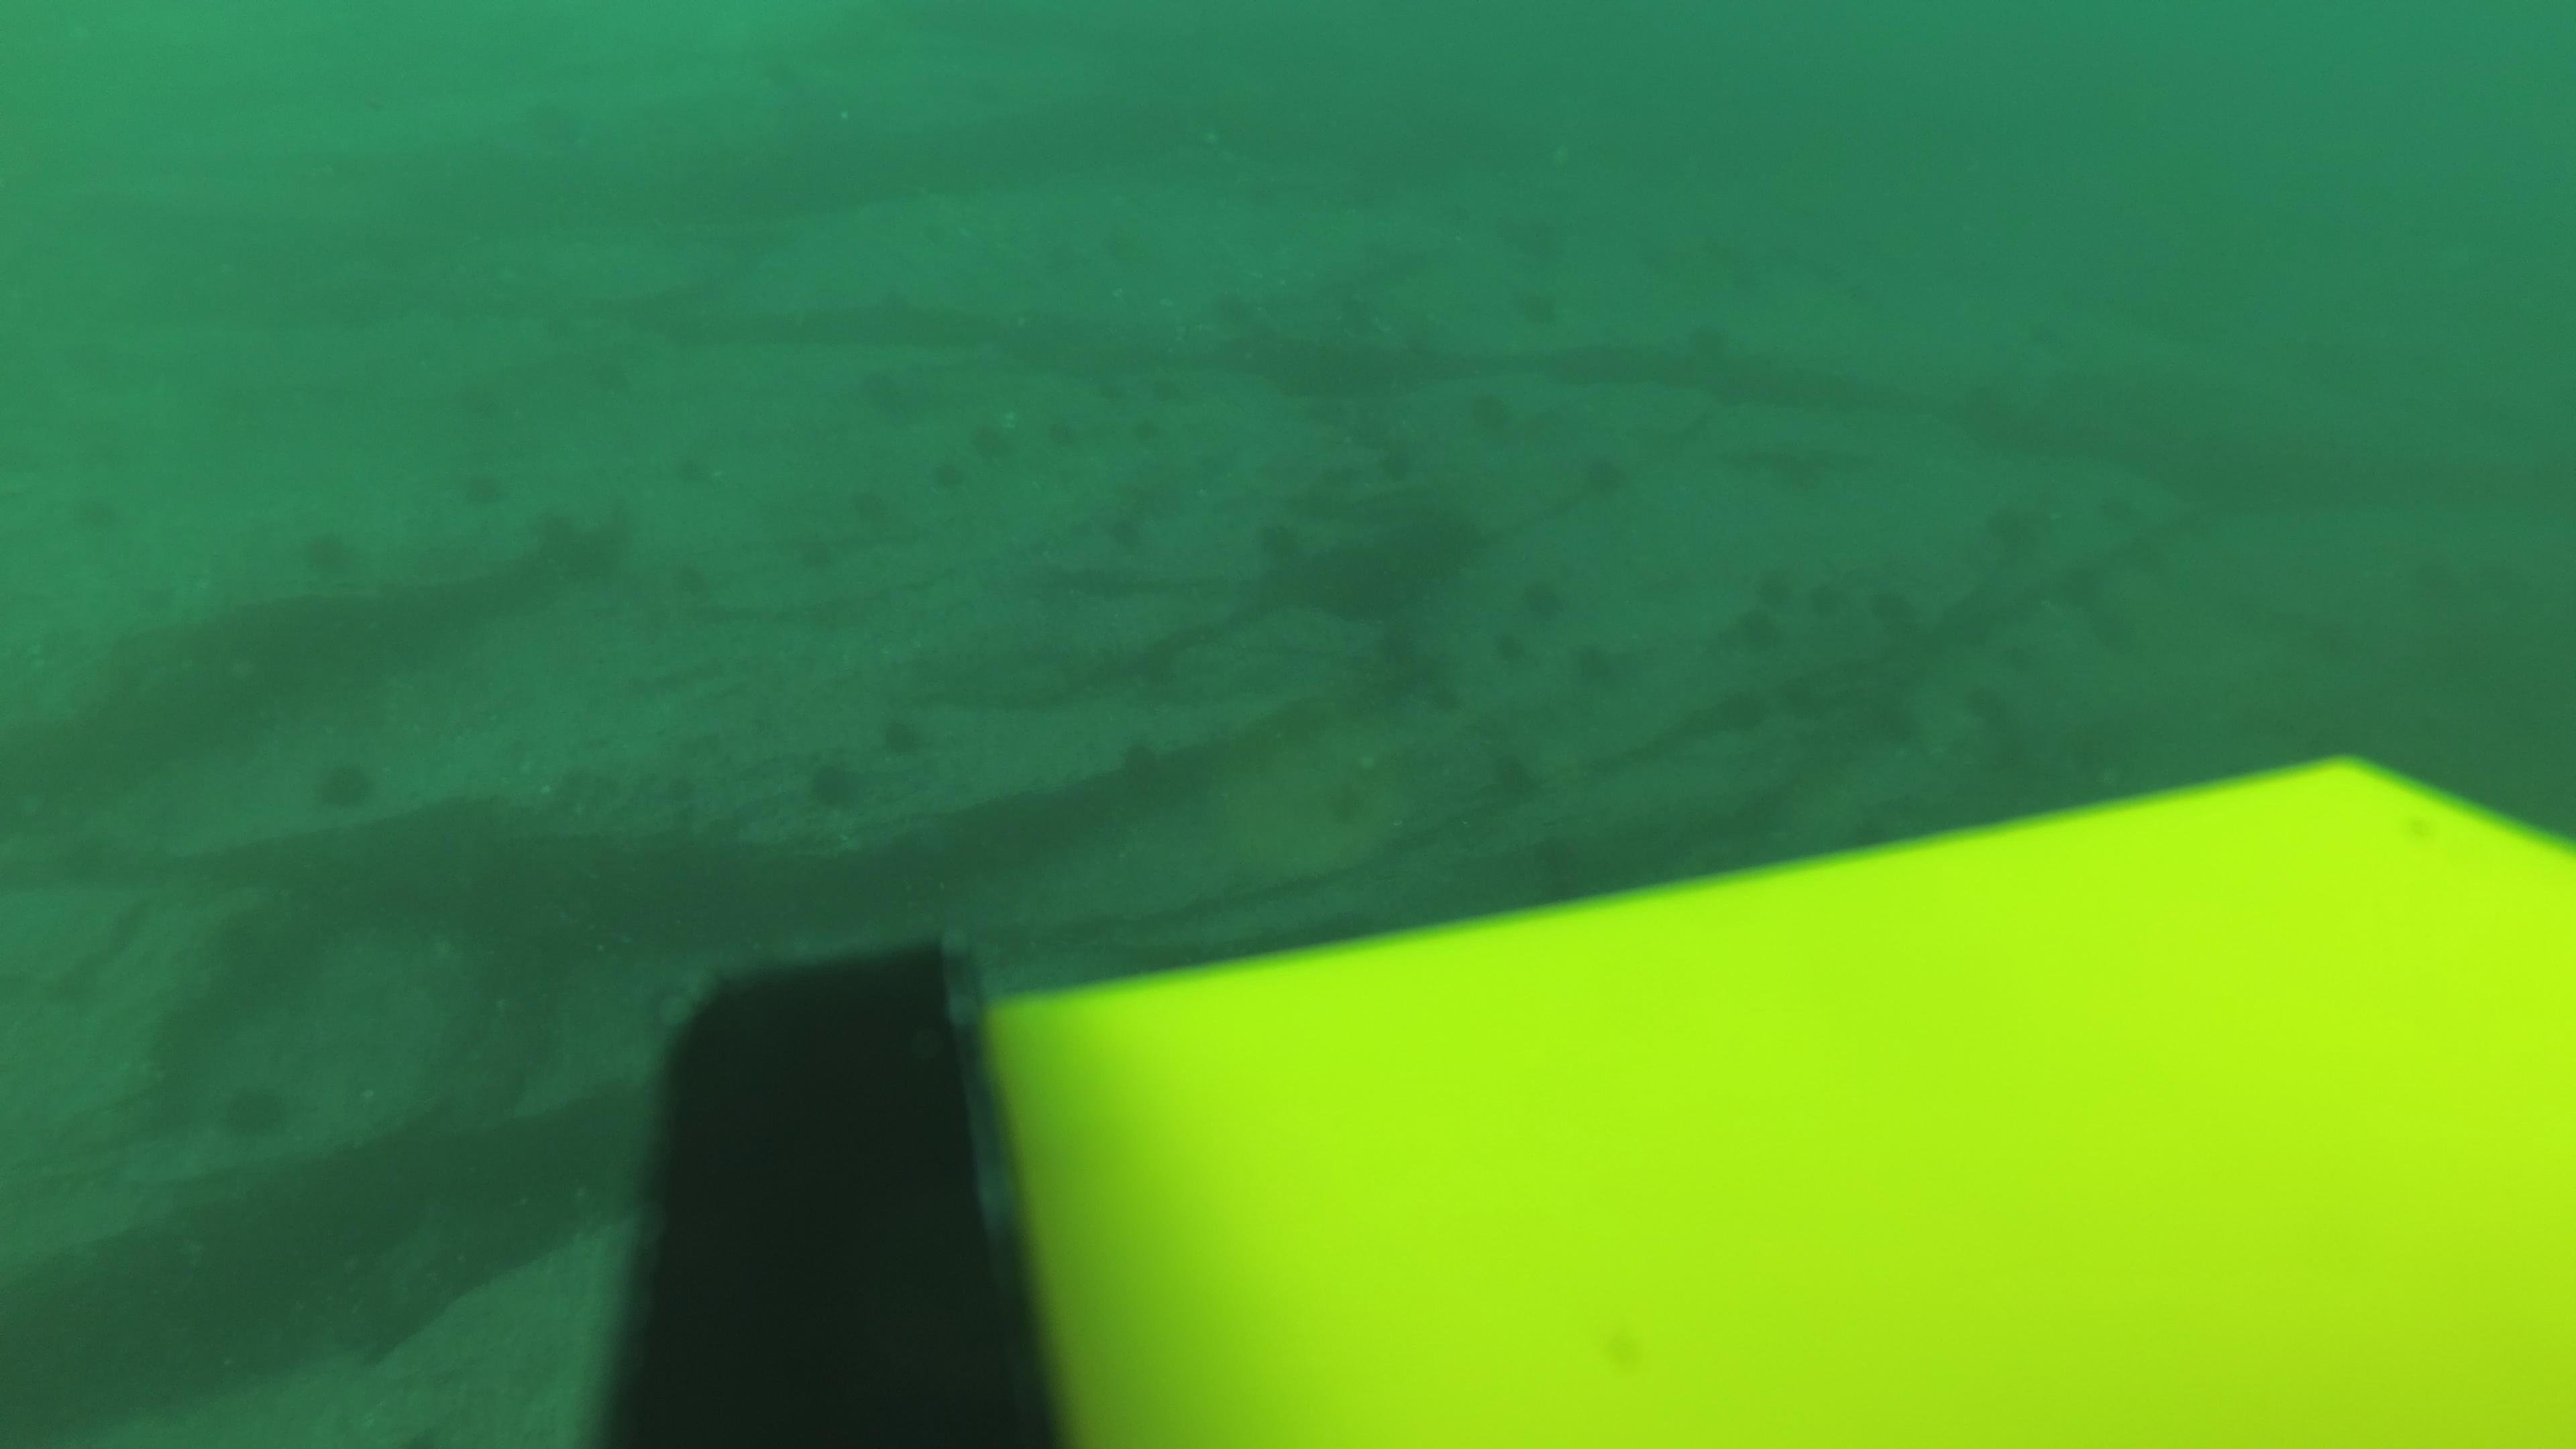echinus: (212, 1074, 301, 1146), (306, 750, 386, 819), (292, 522, 363, 586), (1490, 750, 1545, 805), (1514, 571, 1569, 626), (812, 755, 860, 800), (453, 467, 504, 504), (885, 711, 924, 754), (676, 449, 713, 485), (932, 458, 970, 494), (973, 421, 1010, 456), (1049, 412, 1086, 448), (1132, 416, 1169, 451), (74, 488, 111, 524), (1102, 510, 1139, 545), (1254, 518, 1292, 554), (1587, 456, 1624, 492), (1568, 639, 1605, 674), (1419, 679, 1456, 715), (1753, 570, 1790, 605), (1476, 389, 1513, 425), (1338, 295, 1375, 331), (1523, 290, 1560, 326), (1683, 317, 1720, 352), (1102, 228, 1139, 264), (674, 559, 709, 594), (1116, 738, 1152, 773), (541, 313, 577, 349), (586, 356, 621, 391), (1732, 612, 1767, 648), (1725, 686, 1760, 722), (1806, 582, 1842, 617), (1877, 593, 1913, 628), (1989, 504, 2024, 540), (1219, 292, 1254, 327), (1723, 257, 1759, 292), (1633, 239, 1668, 274), (1240, 177, 1276, 212), (796, 536, 833, 570), (855, 478, 892, 511), (1373, 449, 1410, 483), (1976, 686, 2013, 720), (1040, 246, 1077, 280), (1097, 375, 1132, 409), (1148, 370, 1184, 403), (1495, 625, 1530, 658), (1999, 635, 2035, 669), (761, 53, 796, 87)
